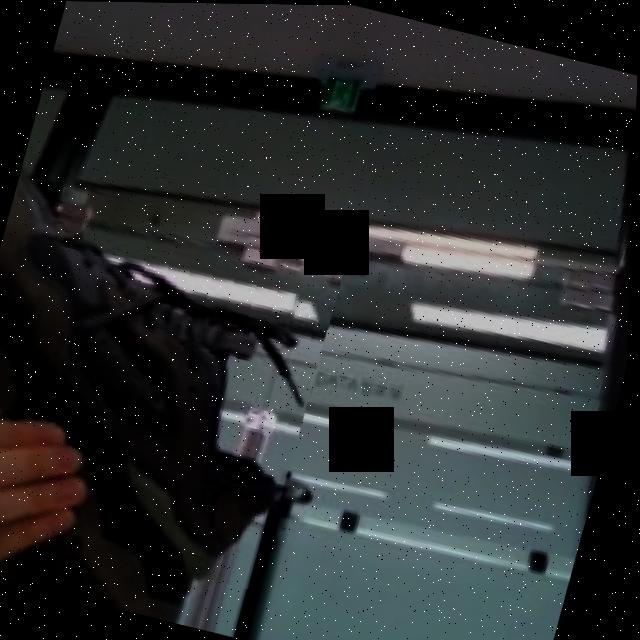shoe: (0, 167, 353, 640)
